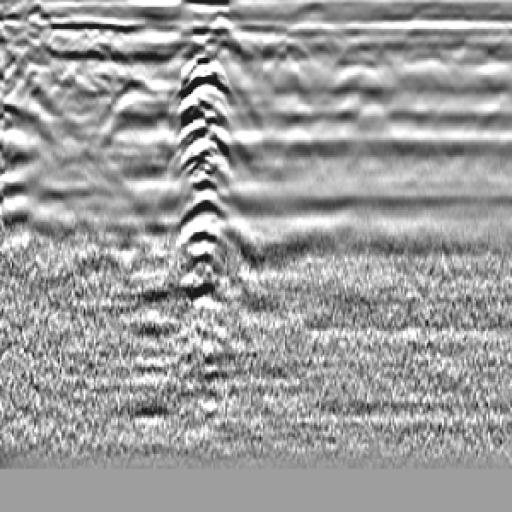metalic: (170, 35, 254, 369)
nonmetalic: (80, 72, 187, 168)
